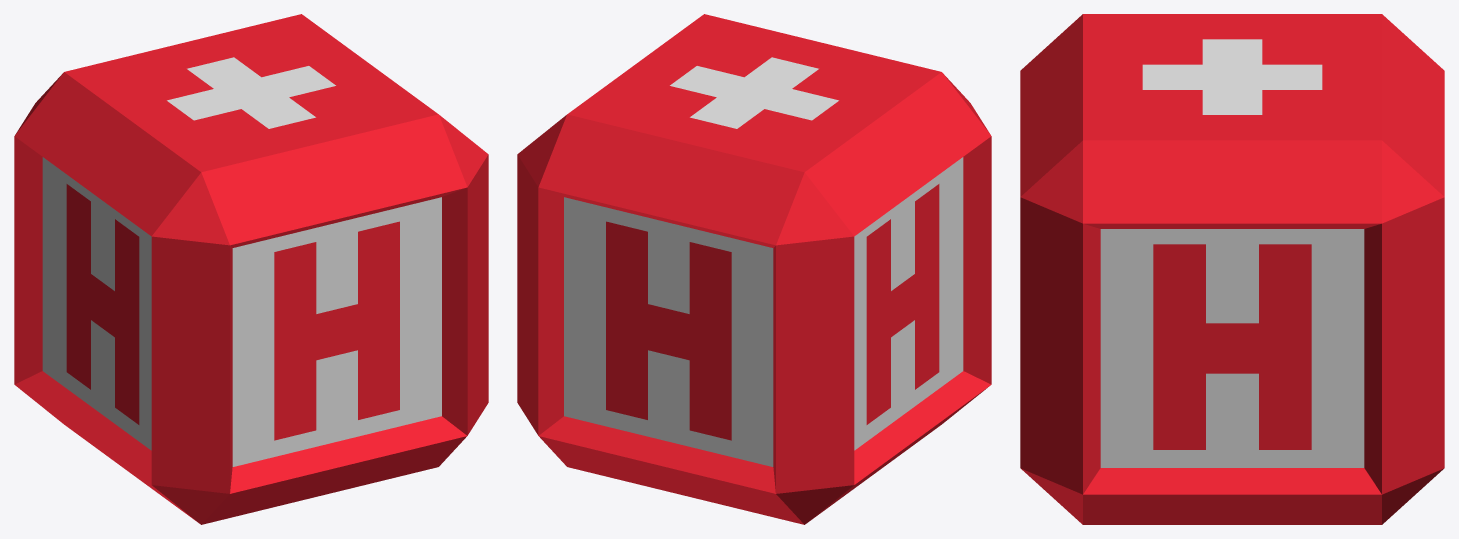
File: health Box.fbx
The picture shows the model from 3 angles, left to right: view 1: azimuth 30°, elevation 25°; view 2: azimuth 150°, elevation 25°; view 3: azimuth 270°, elevation 25°; orthographic projection. The views are drawn at different scales.
Parts seen in each view (by area): view 1: Cube; view 2: Cube; view 3: Cube.
Boxes of the visible parts, x1,y1,x2,y2 form: Cube: [14, 14, 488, 524]; Cube: [517, 14, 991, 524]; Cube: [1020, 14, 1444, 524].
Size of the model in its own units: 200 by 200 by 200.
